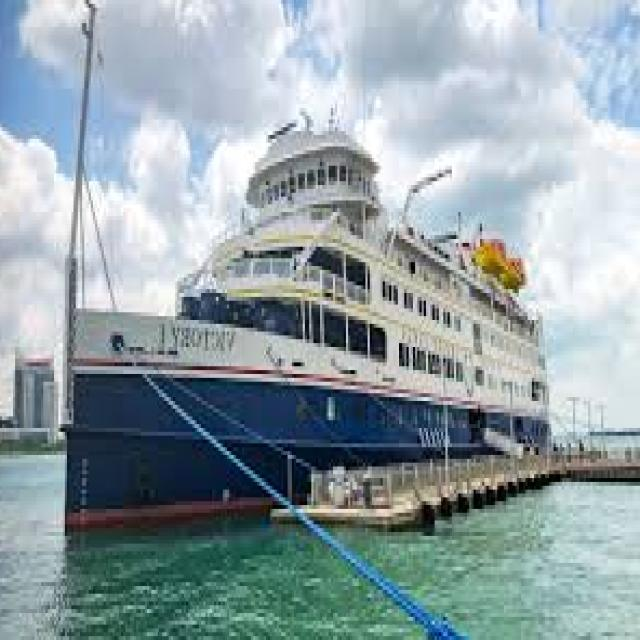passenger ship: (45, 115, 559, 535)
